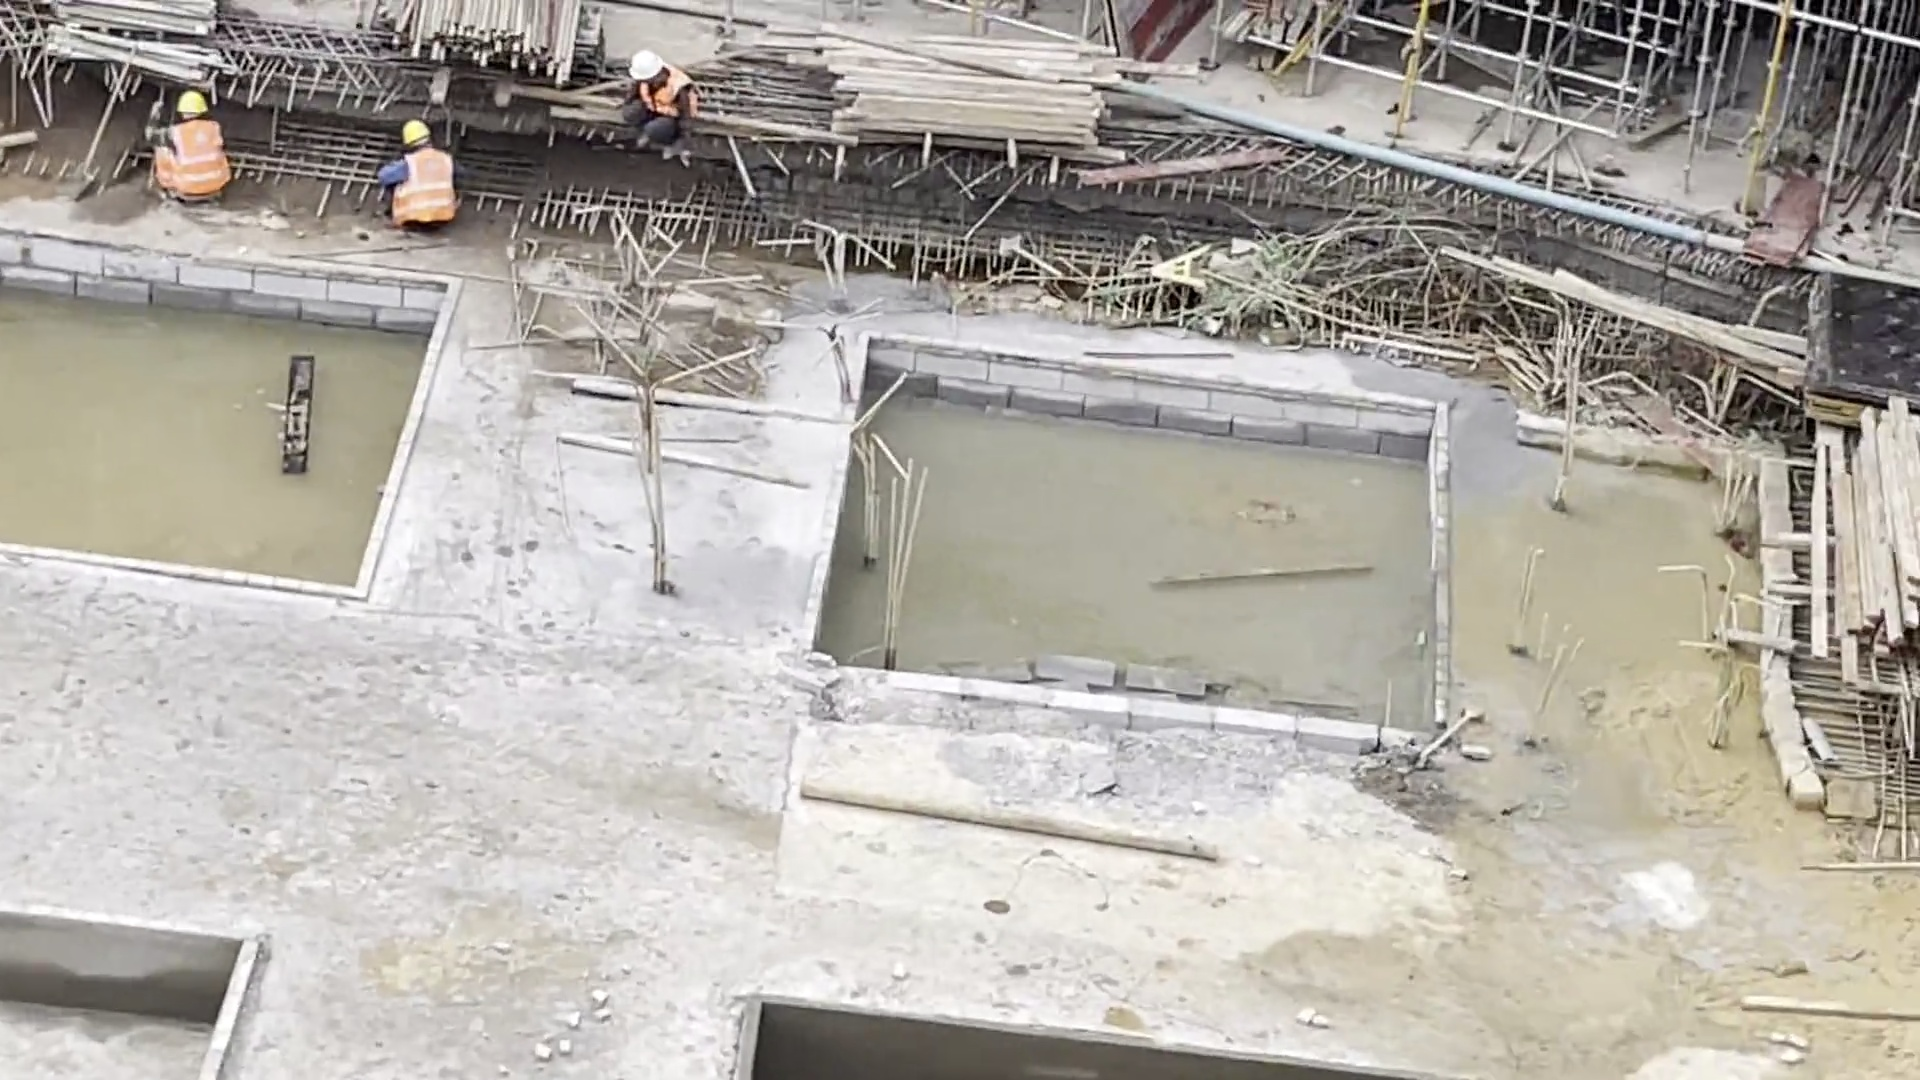helmet: (628, 51, 663, 81), (399, 119, 431, 146), (175, 90, 209, 115)
person: (375, 112, 471, 241), (151, 86, 238, 214), (622, 50, 706, 156)
vest: (166, 116, 233, 199), (384, 150, 458, 225), (641, 65, 699, 119)
wood: (748, 17, 1138, 163), (1817, 397, 1920, 651)
